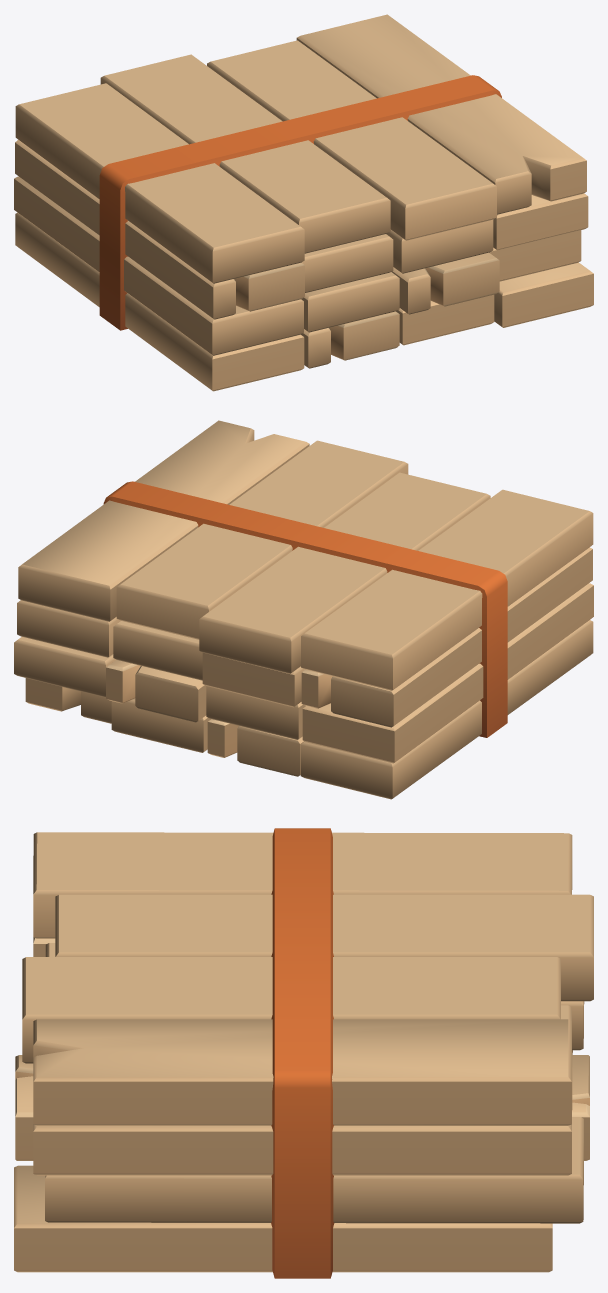
Rendered from wood_planks_stack_medium.glb.
3 views of the same model, one above another, from view 1: azimuth 30°, elevation 25°; view 2: azimuth 150°, elevation 25°; view 3: azimuth 270°, elevation 25° (orthographic). The views are drawn at different scales.
Parts seen in each view (by area): view 1: Wood_Planks_Stack_Medium; view 2: Wood_Planks_Stack_Medium; view 3: Wood_Planks_Stack_Medium.
Part boxes in pixels (box(x1,y1,x2,y2)): Wood_Planks_Stack_Medium: box(14, 14, 593, 391); Wood_Planks_Stack_Medium: box(14, 420, 593, 799); Wood_Planks_Stack_Medium: box(14, 828, 593, 1278).
Size of the model in its own units: 0.9997 by 0.3739 by 0.9692.
Materials: 1 (1 with a texture image).
